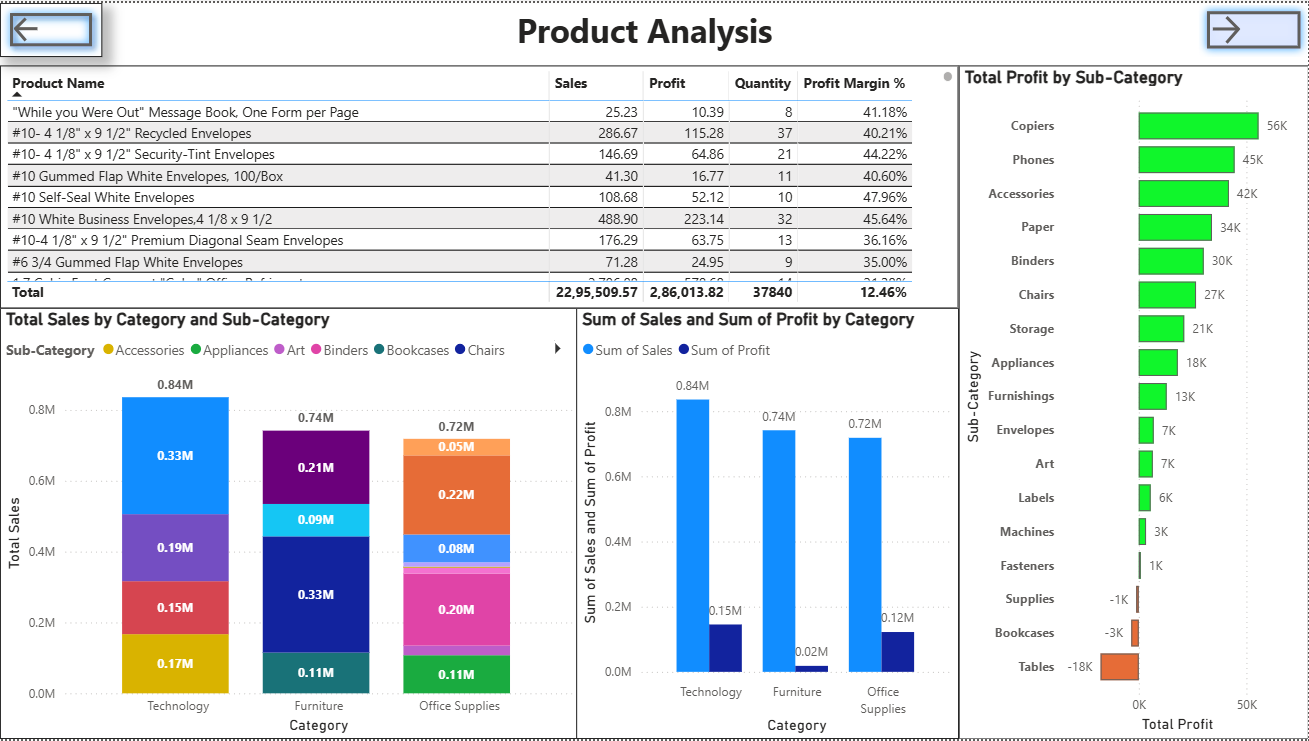

This screenshot's page, from the dashboard's own definition file:
{"tool":"powerbi","page":{"name":"Page 2","canvas":[1280,720],"ordinal":1},"visuals":[{"type":"barChart","fields":{"Category":["Sample - Superstore.Sub-Category"],"Y":["All measures.Total Profit"]},"box":[937.9,61.1,342.4,659.1],"z":1},{"type":"columnChart","fields":{"Category":["Sample - Superstore.Category"],"Y":["All measures.Total Sales"],"Series":["Sample - Superstore.Sub-Category"]},"box":[0,298.4,566.2,421.9],"z":2},{"type":"clusteredColumnChart","fields":{"Y":["Sum(Sample - Superstore.Sales)","Sum(Sample - Superstore.Profit)"],"Category":["Sample - Superstore.Category"]},"box":[563.7,298.4,374.2,421.9],"z":3},{"type":"tableEx","fields":{"Values":["Sample - Superstore.Product Name","Sum(Sample - Superstore.Sales)","Sum(Sample - Superstore.Profit)","Sum(Sample - Superstore.Quantity)","All measures.Profit Margin %"]},"box":[0,61.1,937.9,237.2],"z":4},{"type":"actionButton","box":[1172.7,0,107.6,52.6],"z":5},{"type":"actionButton","box":[0,0,100.3,52.6],"z":6},{"type":"textbox","box":[491.6,0,270.2,52.6],"z":7}]}

Visuals, with their boxes in screenshot pixels (x1, y1, x2, y2), scaled from the page's 1280x720 canvas onto the 1309x741 screenshot:
barChart - Sample - Superstore.Sub-Category x All measures.Total Profit: box=[959, 63, 1308, 740]
columnChart - Sample - Superstore.Category x All measures.Total Sales: box=[0, 307, 579, 740]
clusteredColumnChart - Sum(Sample - Superstore.Sales) x Sum(Sample - Superstore.Profit): box=[576, 307, 959, 740]
tableEx - Sample - Superstore.Product Name x Sum(Sample - Superstore.Sales): box=[0, 63, 959, 307]
actionButton: box=[1199, 0, 1308, 54]
actionButton: box=[0, 0, 103, 54]
textbox: box=[503, 0, 779, 54]
